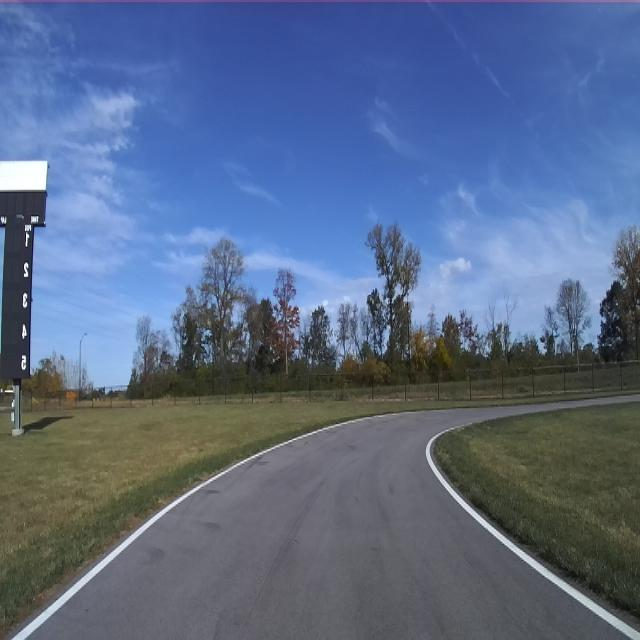white-line: (12, 415, 386, 639), (426, 426, 640, 639)
